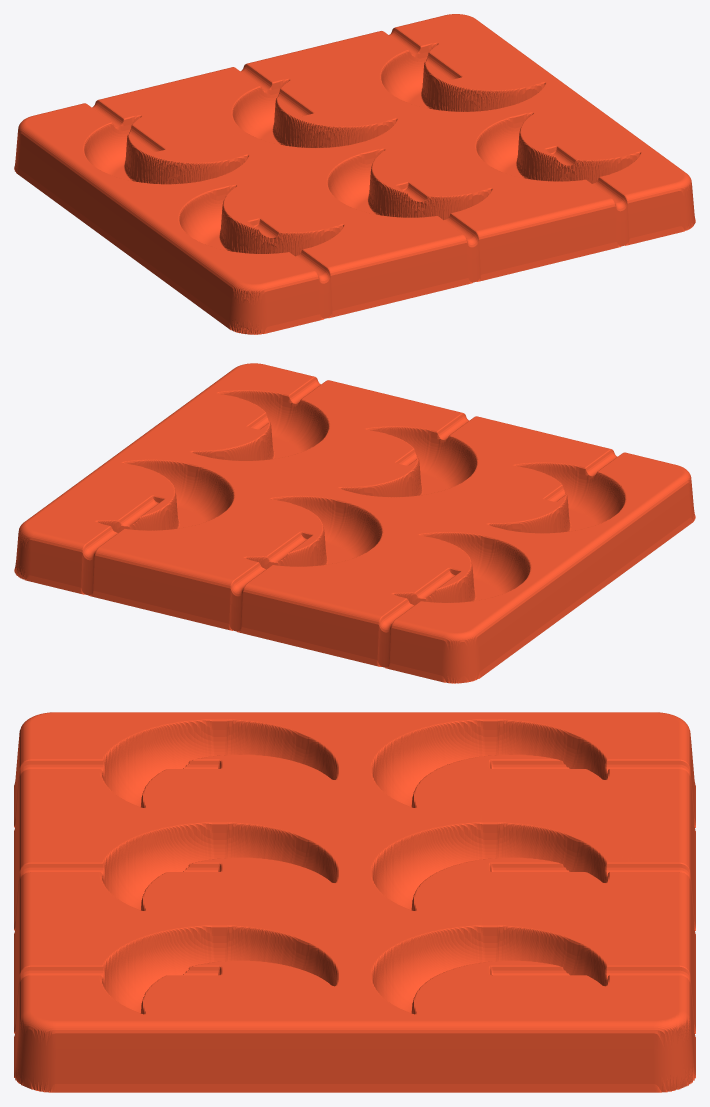
The model's file is mold.glb.
3 views of the same model, one above another, from view 1: azimuth 30°, elevation 25°; view 2: azimuth 150°, elevation 25°; view 3: azimuth 270°, elevation 25° (orthographic). The views are drawn at different scales.
Visible parts, largest first — view 1: geometry_0; view 2: geometry_0; view 3: geometry_0.
Part boxes in pixels (<box>): geometry_0: <box>14,14,695,334</box>; geometry_0: <box>14,363,695,683</box>; geometry_0: <box>14,712,695,1092</box>.
Bounding box in the file's own units: 0.1649 × 0.0155 × 0.1477.
